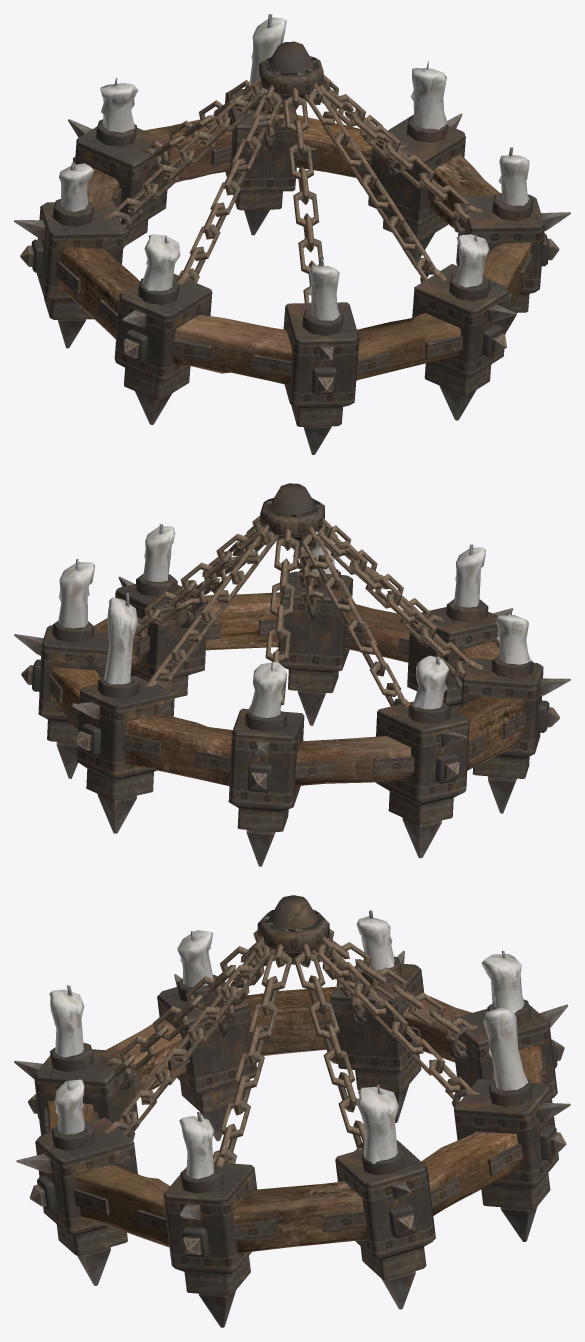
3 renders of one model, top to bottom at view 1: azimuth 30°, elevation 25°; view 2: azimuth 150°, elevation 25°; view 3: azimuth 270°, elevation 25°, orthographic. The views are drawn at different scales.
Parts seen in each view (by area): view 1: SM_DR_Chandelier_01_LOD0; view 2: SM_DR_Chandelier_01_LOD0; view 3: SM_DR_Chandelier_01_LOD0.
Boxes of the visible parts, box(x1,y1,x2,y2) form: SM_DR_Chandelier_01_LOD0: box(14, 14, 570, 454); SM_DR_Chandelier_01_LOD0: box(14, 483, 570, 866); SM_DR_Chandelier_01_LOD0: box(14, 895, 570, 1327).
Size of the model in its own units: 1.5 by 1.02 by 1.49.
Materials: 4 (4 with a texture image).
